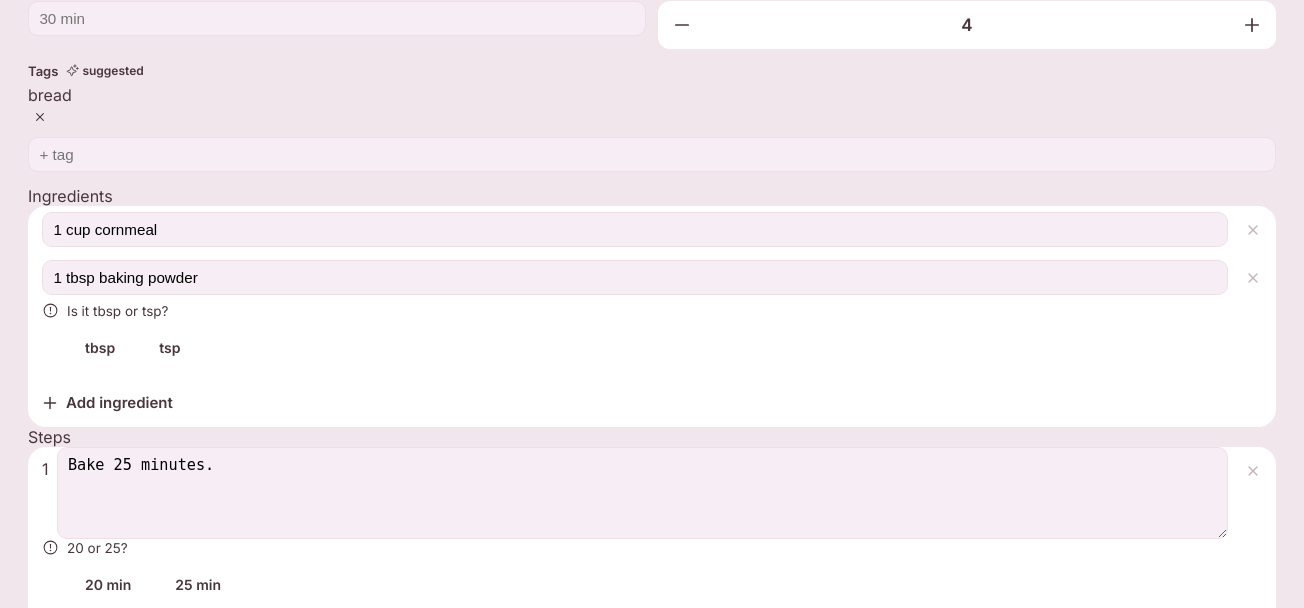
Test: editor flags › counts open flags and resolves them by pill or by hand
(page scrolled)
Click the button "tsp".
click(170, 348)  # box [141,329,198,367]
(page scrolled)
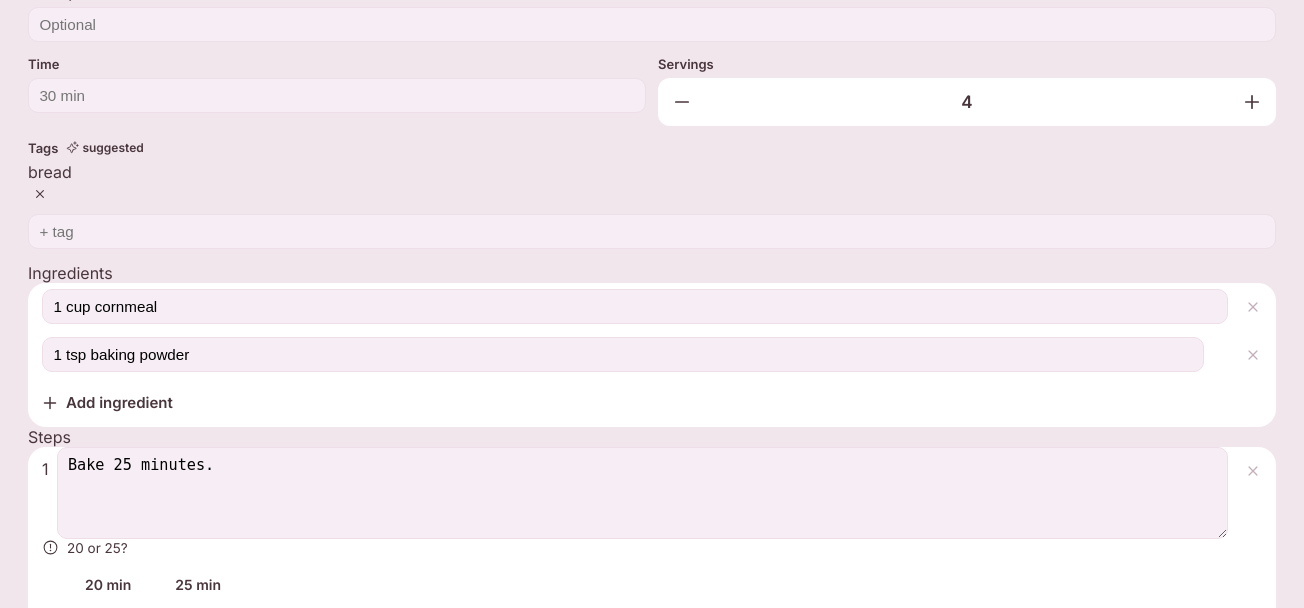
Expected: the field named "Ingredient 2" holds "1 tsp baking powder", [42,337,1204,372]
Replace the text in the text box named "Step 1" with "Bake 22 minutes." at {"x": 642, "y": 492}, box [56,446,1228,538]
(page scrolled)
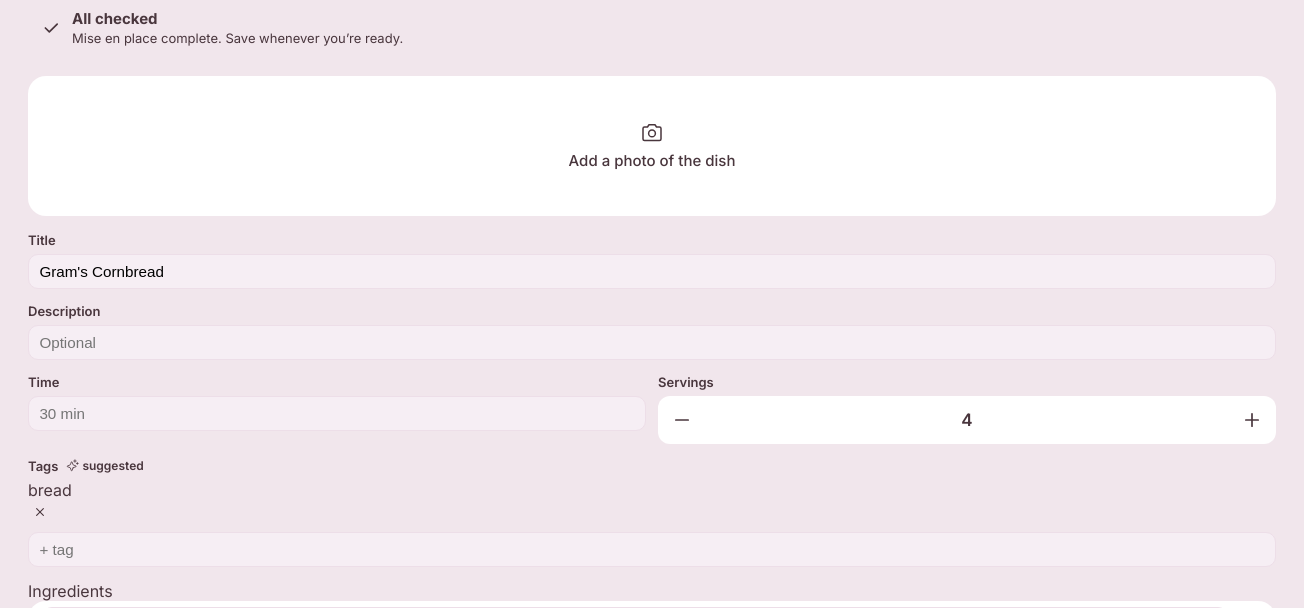
Expected: the text "All checked" is shown, [72,9,158,28]
Expected: the text "20 or 25?" is gone
